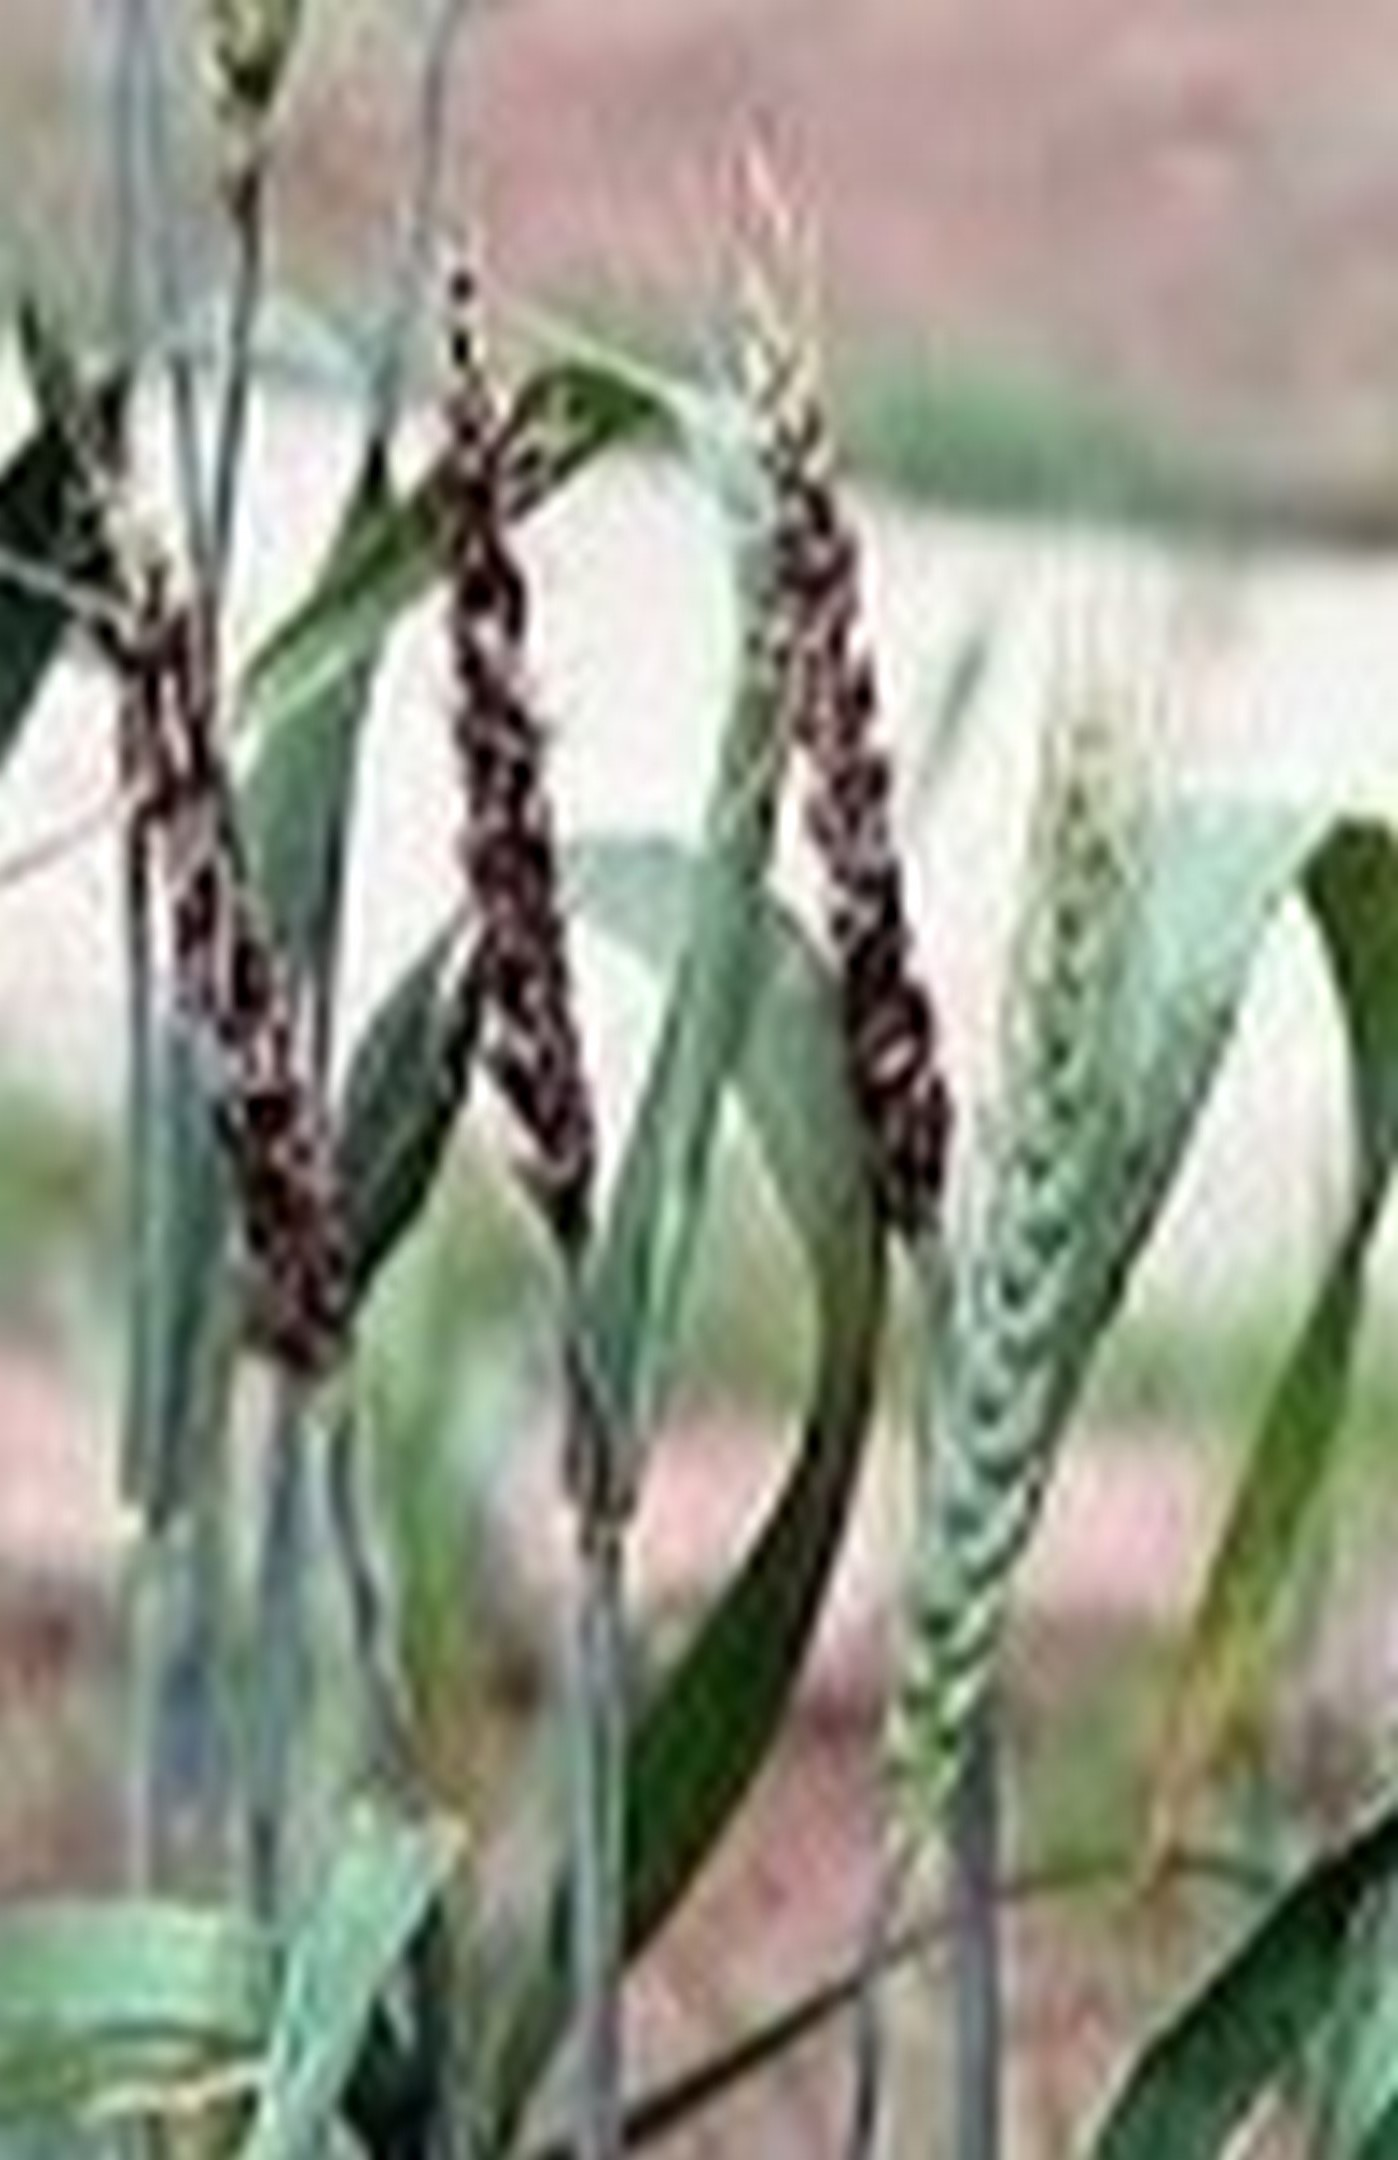Wheat Loose Smut: (135, 334, 1004, 1280)
